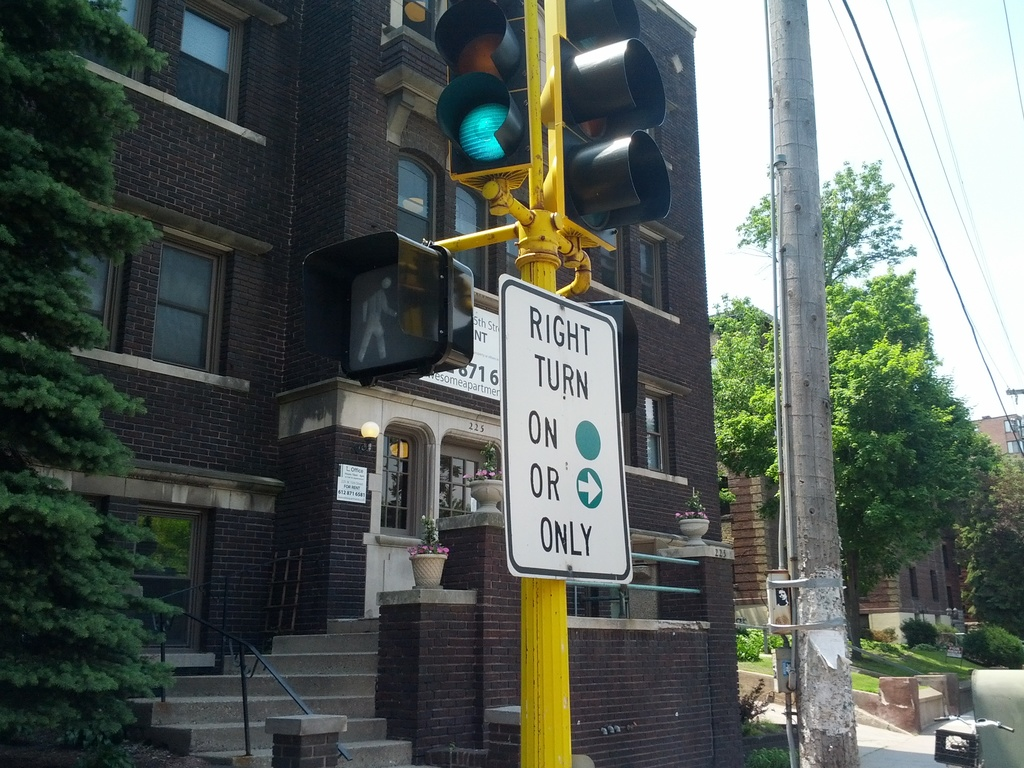green_light: (448, 3, 533, 169)
